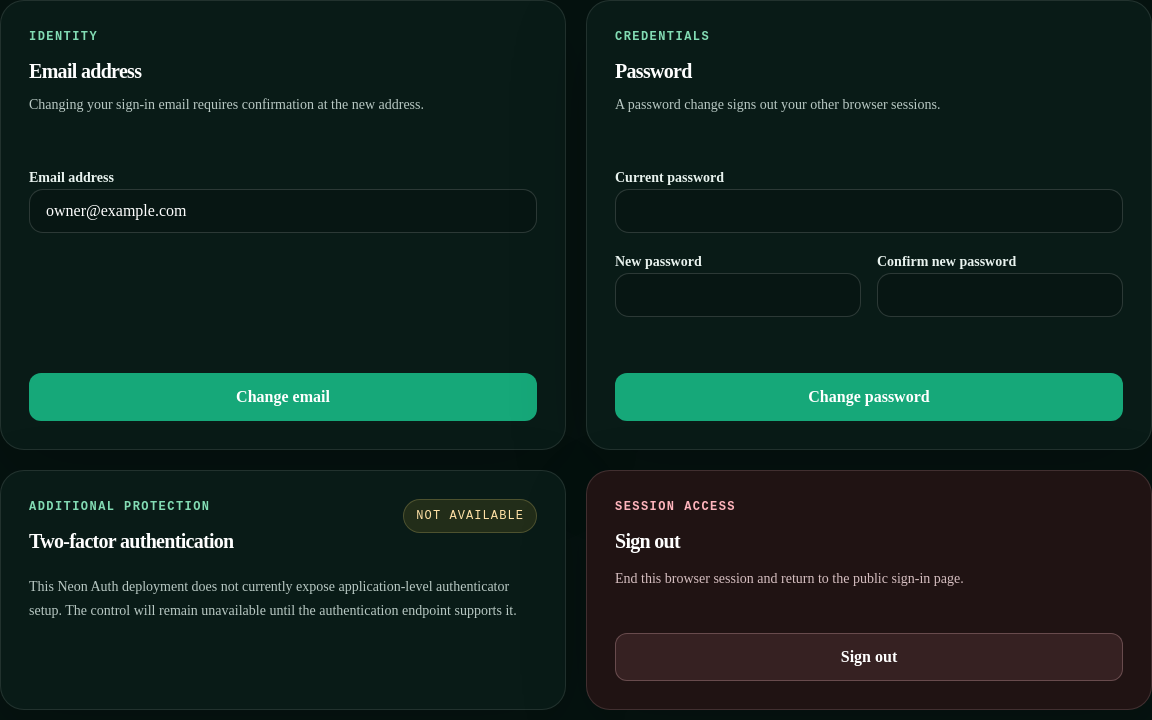
Test case: AccountSecurityPanel › changes the password and revokes other sessions
The width and height of the screenshot is (1152, 720).
In the password field labelled "Current password": point(869, 211) [615,189,1123,233], type "current-password"
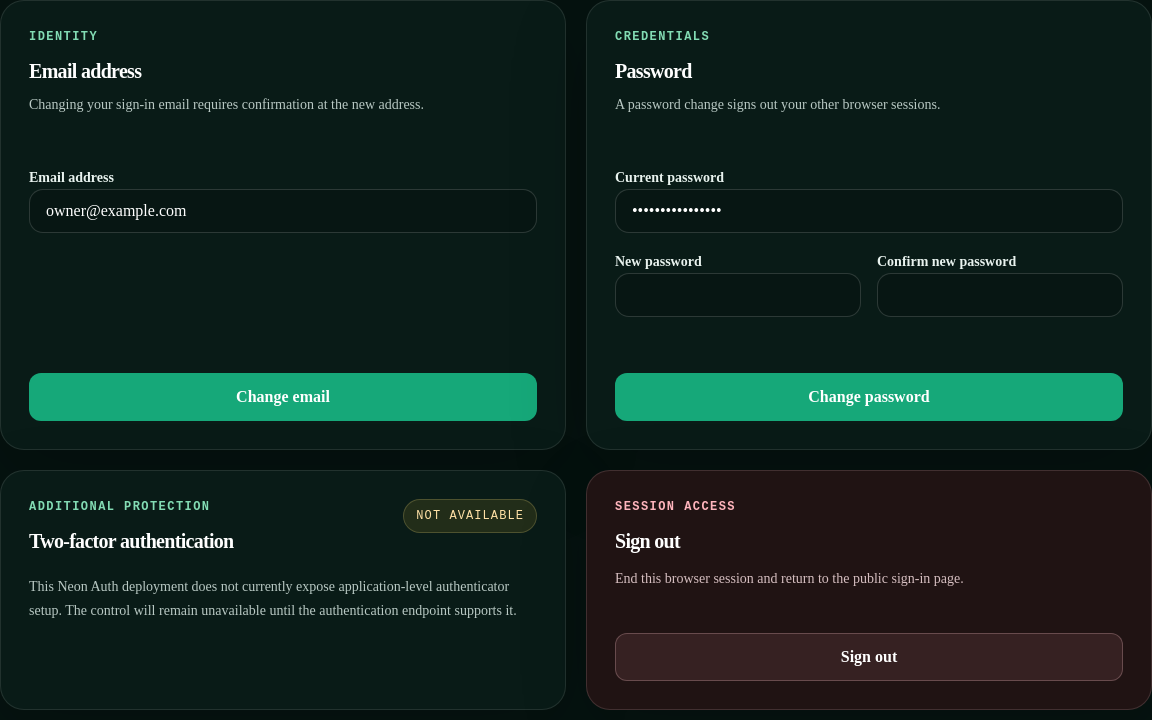
In the password field labelled "New password": point(738, 295) [615,273,861,317], type "new-password-123"
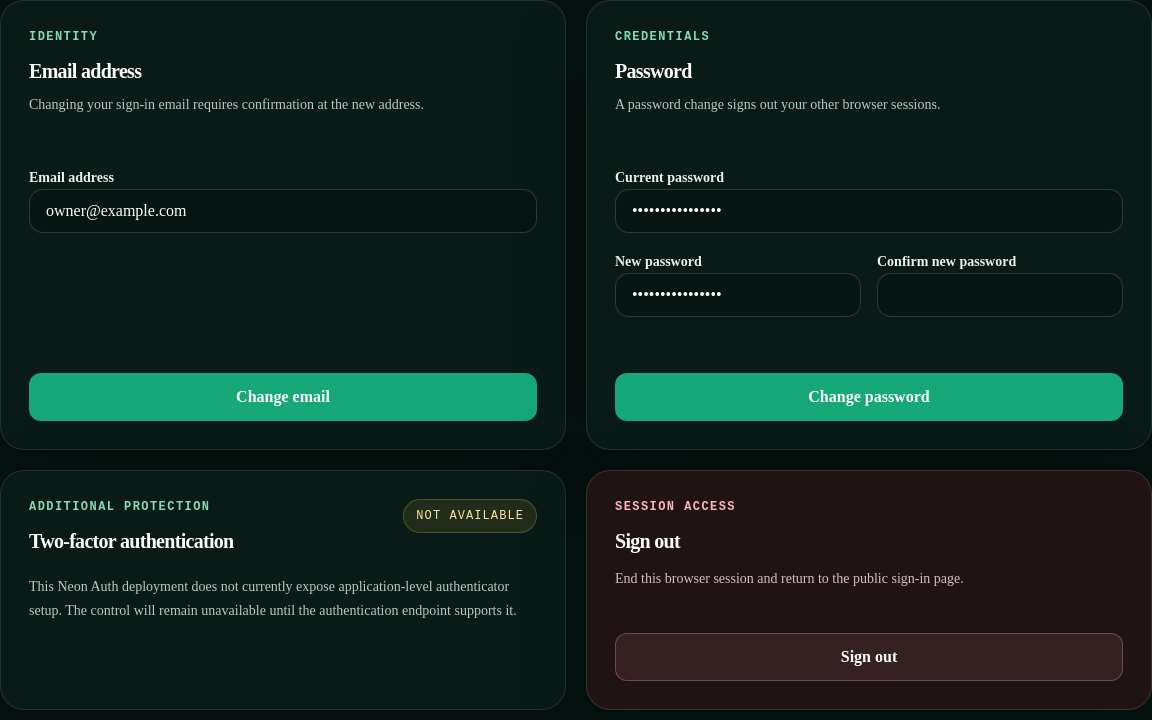
In the password field labelled "Confirm new password": point(1000, 295) [877,273,1123,317], type "new-password-123"
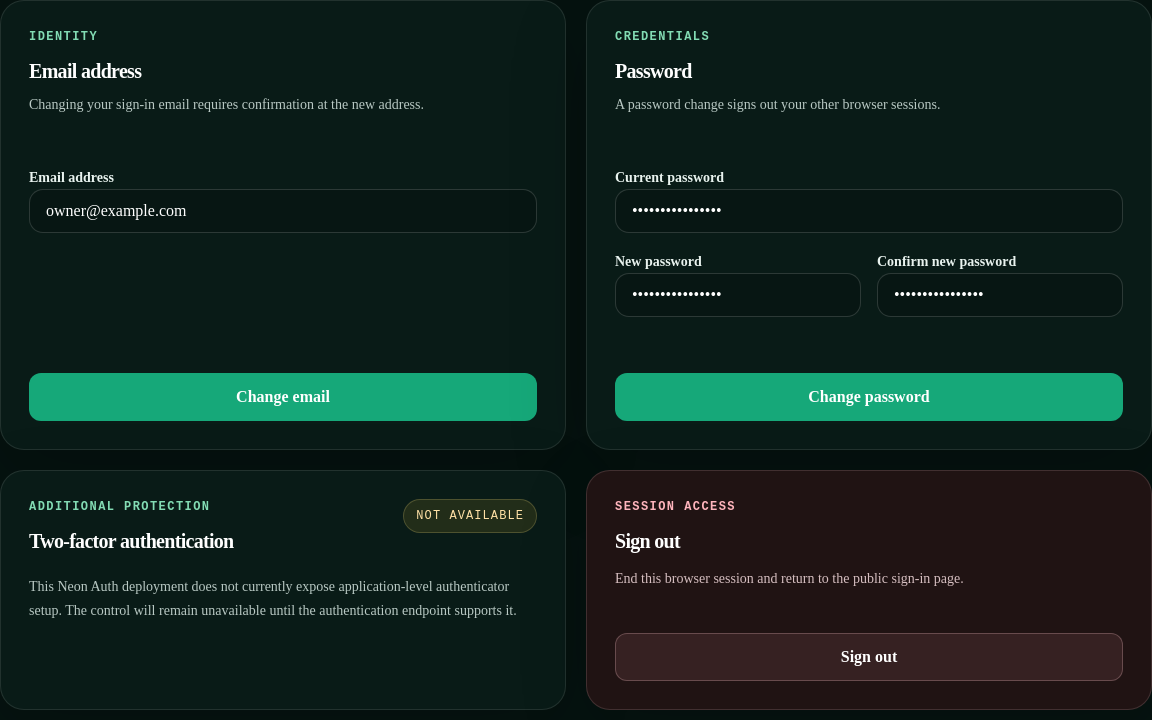
Submit the form labelled "Current password", box [615,165,1123,421]
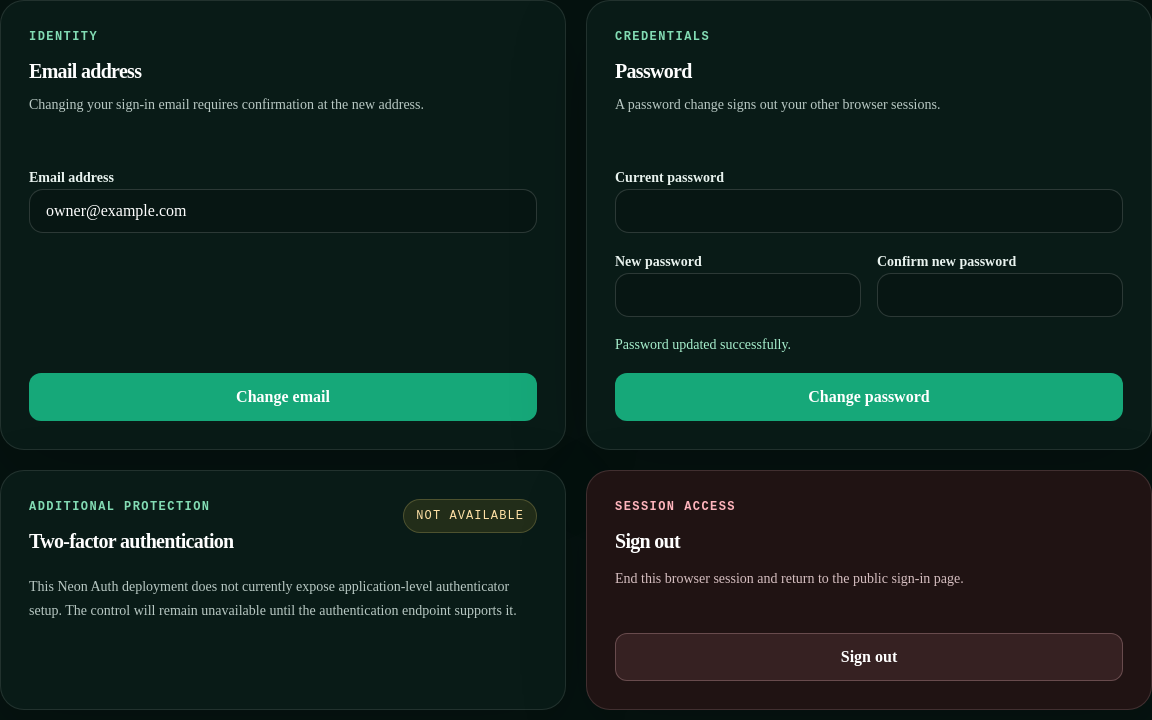
Check: the text "Password updated successfully." is shown, box [615,337,791,352]
